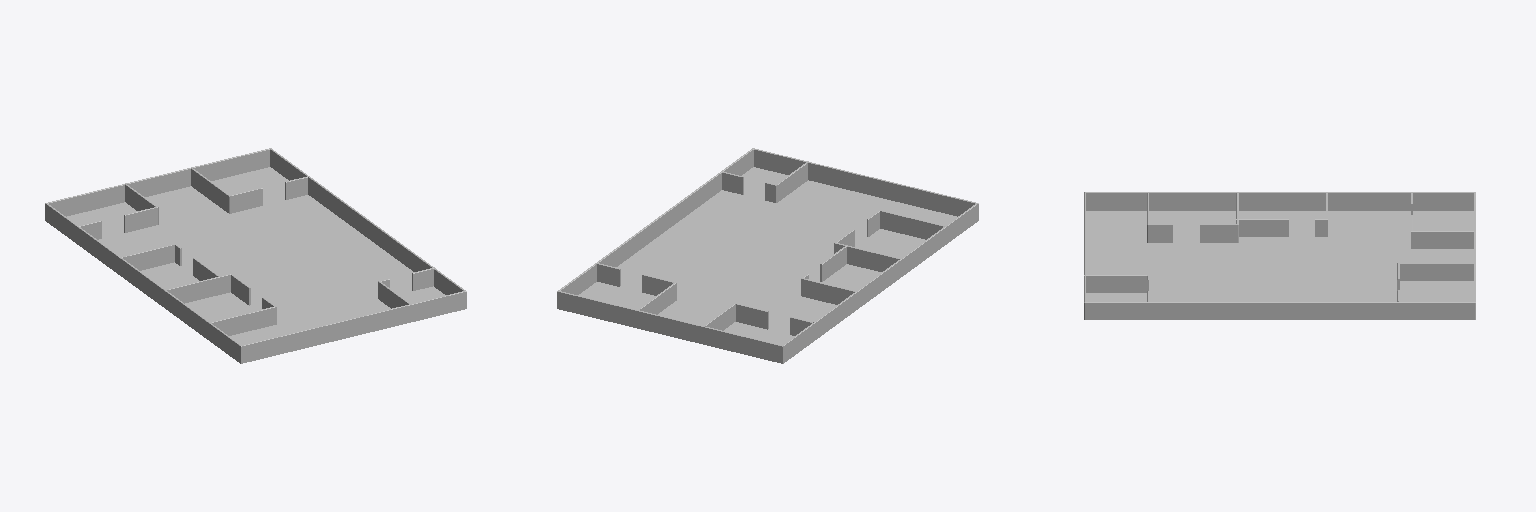
The model's file is SM_Level.obj.
3 views of the same model, side by side, from view 1: azimuth 30°, elevation 25°; view 2: azimuth 150°, elevation 25°; view 3: azimuth 270°, elevation 25° (orthographic).
Visible parts, largest first — view 1: SM_Level:SM_Level; view 2: SM_Level:SM_Level; view 3: SM_Level:SM_Level.
Part boxes in pixels (x1,y1,x2,y2): SM_Level:SM_Level: (45,148,466,363); SM_Level:SM_Level: (557,148,978,363); SM_Level:SM_Level: (1084,192,1475,319).
Size of the model in its own units: 398 by 29.87 by 597.